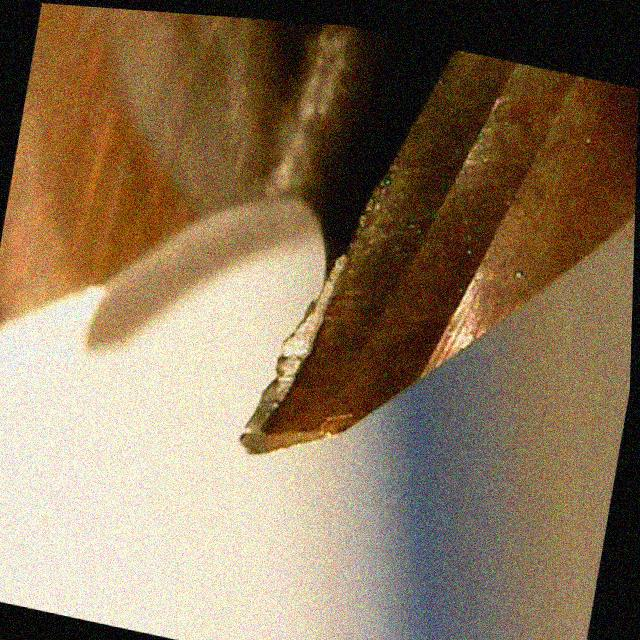Tool-wear-class-2: (233, 199, 450, 496)
